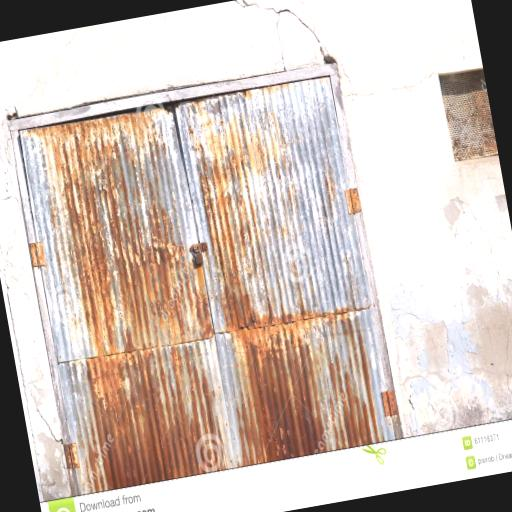segmentation: (21, 105, 211, 361), (87, 353, 205, 490), (237, 327, 317, 461), (154, 346, 216, 478), (197, 381, 219, 457), (229, 260, 254, 326), (227, 288, 232, 310)
